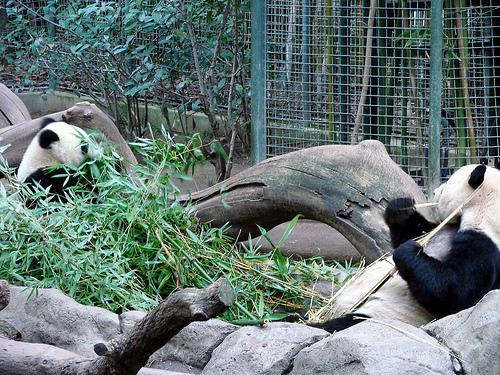panda: (315, 165, 499, 326), (17, 116, 100, 198)
